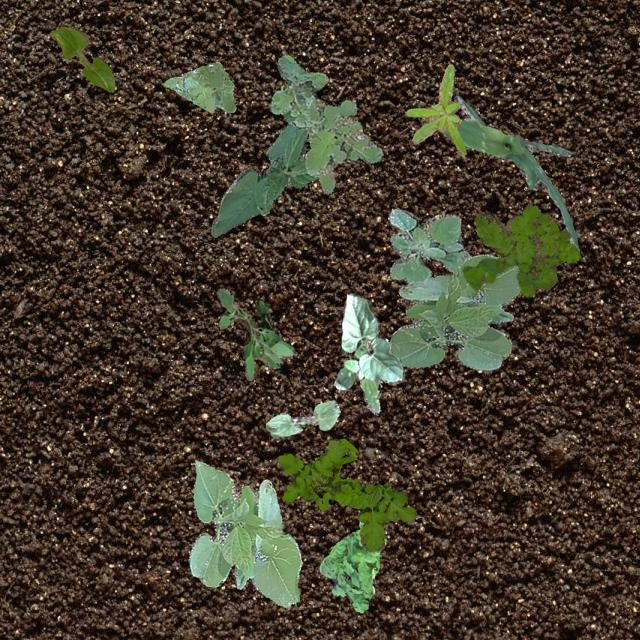crop: (440, 94, 578, 250), (188, 459, 300, 606), (388, 253, 520, 369), (210, 122, 318, 236), (341, 292, 404, 383), (49, 26, 114, 90), (264, 399, 340, 436)
weed: (269, 54, 382, 192), (276, 438, 414, 550), (462, 204, 578, 294), (216, 288, 294, 380), (386, 206, 469, 282), (318, 520, 379, 612), (406, 64, 464, 154), (163, 60, 236, 111), (332, 340, 382, 412)
